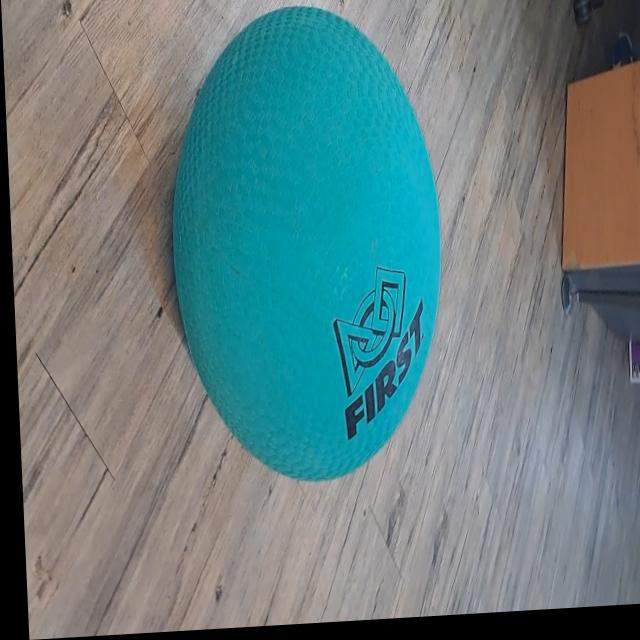ALGAE: (160, 0, 452, 491)
